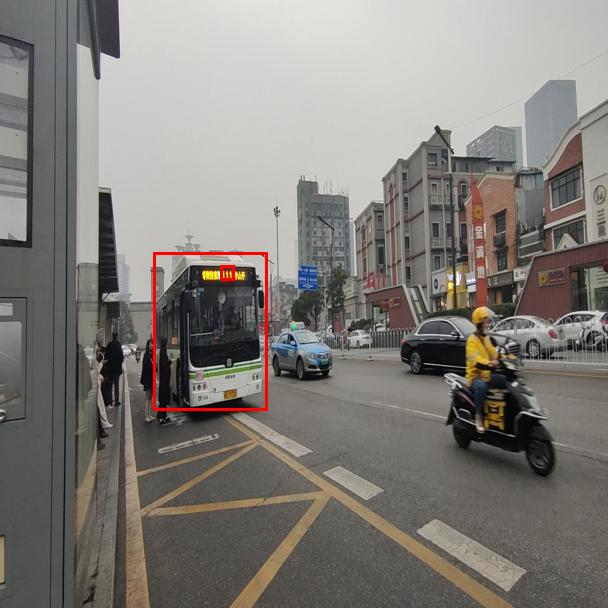bus: (153, 252, 267, 410)
screen: (220, 265, 234, 280)
